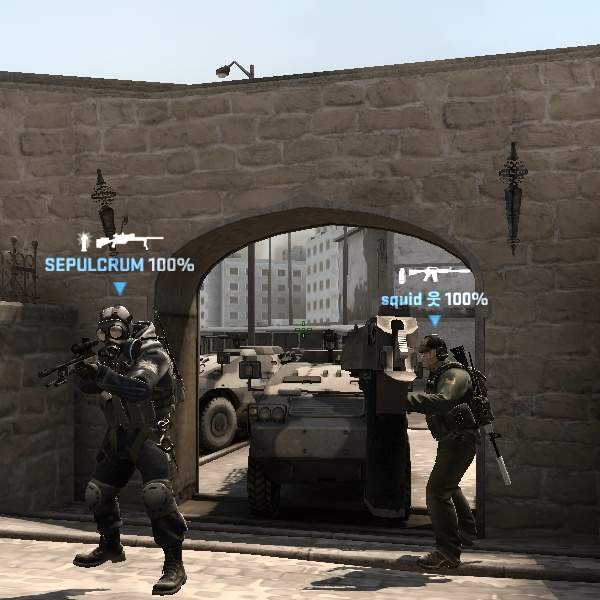ct_body: (57, 293, 198, 590), (380, 332, 497, 573)
ct_head: (85, 298, 148, 360), (409, 331, 461, 381)
